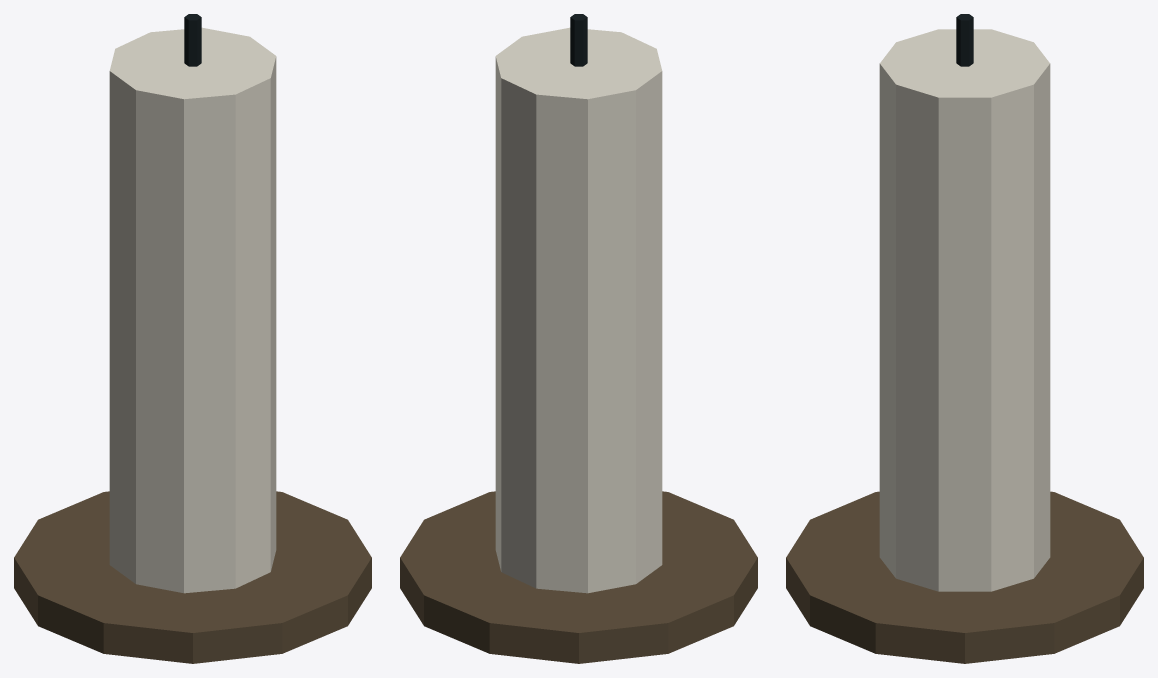
File: blender_firelight_1.glb
3 views of the same model, side by side, from view 1: azimuth 30°, elevation 25°; view 2: azimuth 150°, elevation 25°; view 3: azimuth 270°, elevation 25° (orthographic).
Parts seen in each view (by area): view 1: blender_firelight_1; view 2: blender_firelight_1; view 3: blender_firelight_1.
Part boxes in pixels (bbox=[...]): blender_firelight_1: bbox=[14, 14, 371, 663]; blender_firelight_1: bbox=[400, 14, 757, 663]; blender_firelight_1: bbox=[786, 14, 1143, 663].
Size of the model in its own units: 0.084 by 0.148 by 0.084.
1 material, 1 textured.
